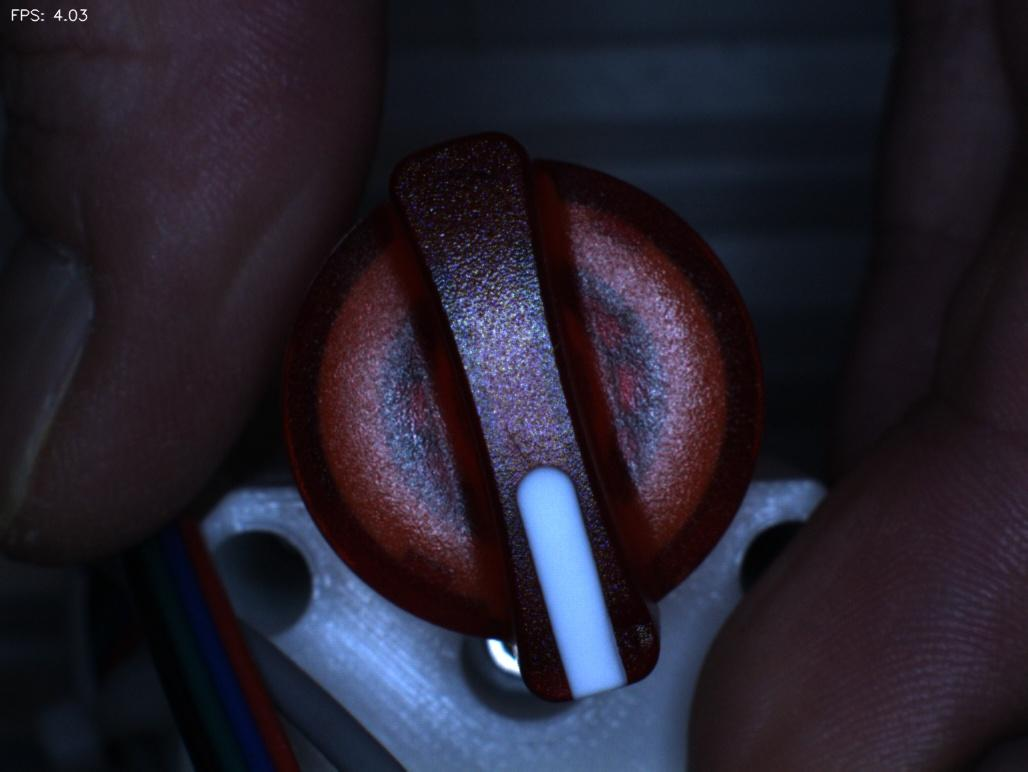Choc: (607, 580, 687, 679)
